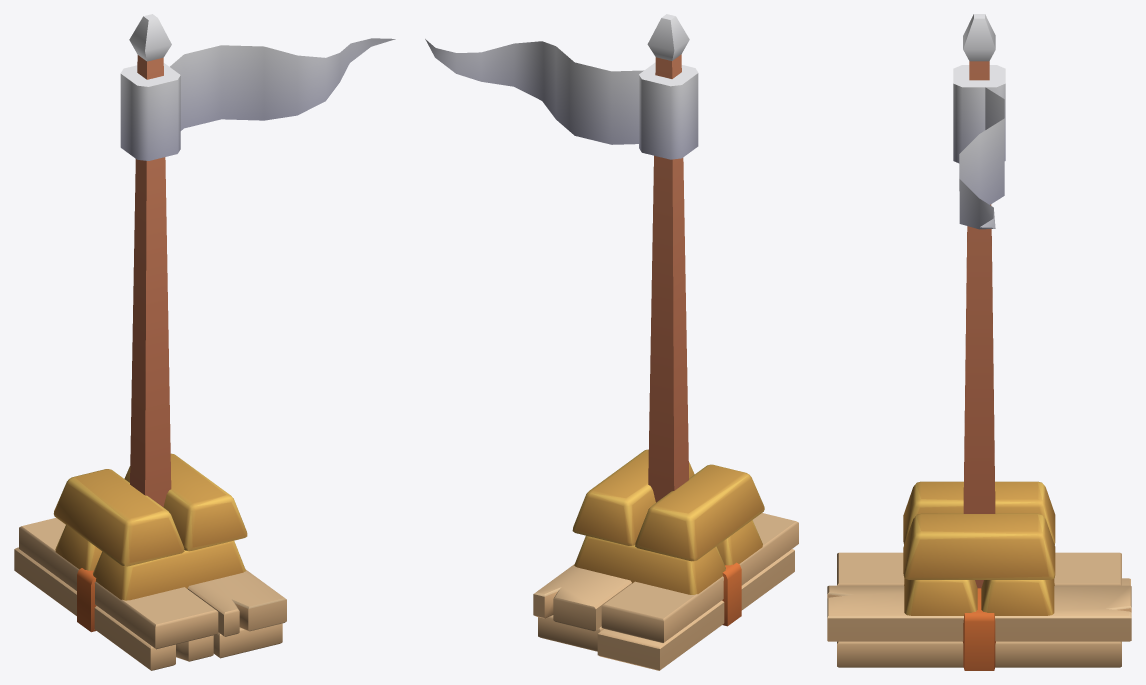
Rendered from seas.glb.
3 views of the same model, side by side, from view 1: azimuth 30°, elevation 25°; view 2: azimuth 150°, elevation 25°; view 3: azimuth 270°, elevation 25° (orthographic). The views are drawn at different scales.
Parts seen in each view (by area): view 1: flag-high-pennant, Gold_Bars_Stack_Small, Wood_Planks_Stack_Small; view 2: flag-high-pennant, Gold_Bars_Stack_Small, Wood_Planks_Stack_Small; view 3: Wood_Planks_Stack_Small, Gold_Bars_Stack_Small, flag-high-pennant.
Part boxes in pixels (x1,y1,x2,y2): flag-high-pennant: (120, 14, 395, 507); Gold_Bars_Stack_Small: (53, 453, 247, 600); Wood_Planks_Stack_Small: (14, 517, 286, 670); flag-high-pennant: (425, 14, 698, 502); Gold_Bars_Stack_Small: (572, 449, 764, 594); Wood_Planks_Stack_Small: (533, 513, 798, 670); Wood_Planks_Stack_Small: (827, 552, 1131, 670); Gold_Bars_Stack_Small: (903, 481, 1055, 615); flag-high-pennant: (953, 14, 1005, 588).
Size of the model in its own units: 1.99 by 3.6 by 1.6.
Materials: 2 (2 with a texture image).
